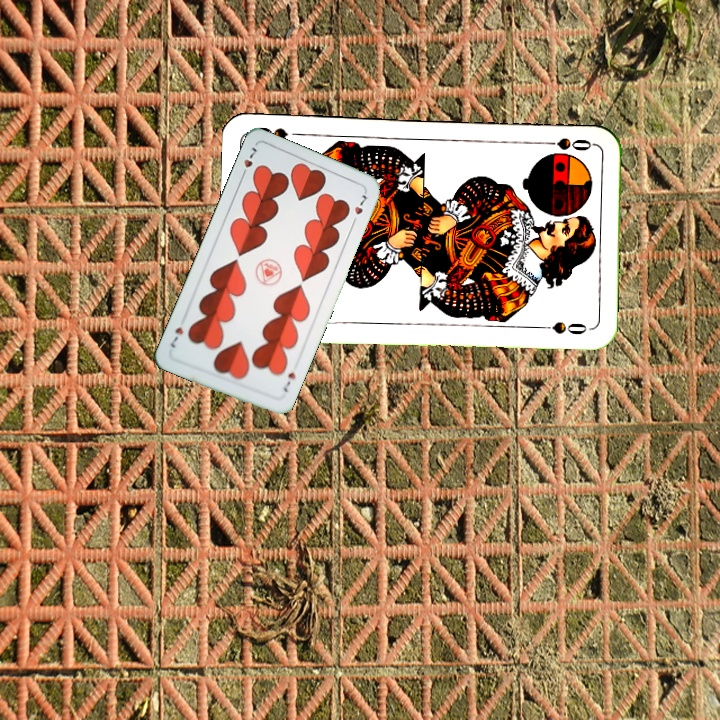H7: (237, 143, 259, 181), (279, 368, 298, 395)
SO: (537, 133, 596, 154)
